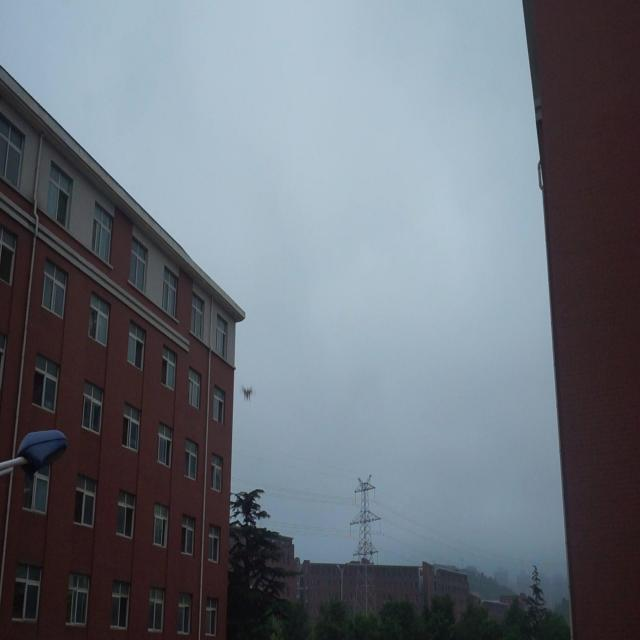UAV: (242, 385, 252, 403)
